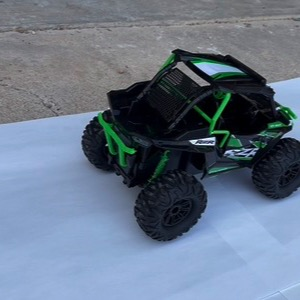polaris: (81, 48, 299, 244)
